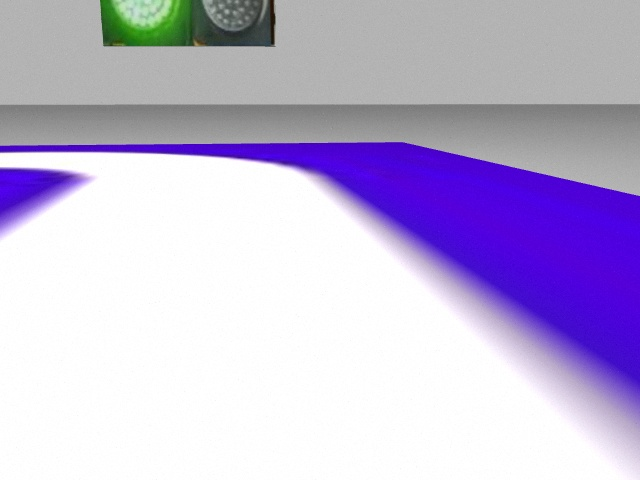green: (100, 1, 193, 47)
